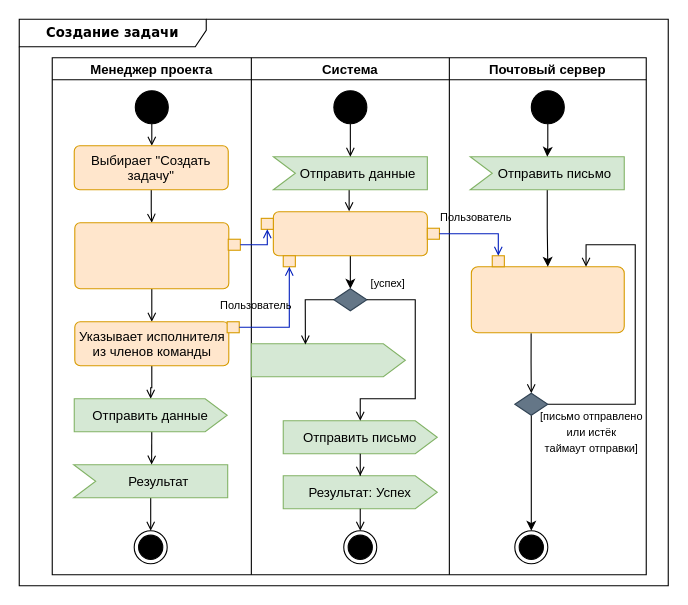
This 688x605 diagram has some shape labels left out. The shapes that lost their labels are listed below. From the top down, each one's box as (x1, y1, x2, y2) in pixels, then its label:
(272, 211, 427, 256): Проводит валидацию полей
(74, 222, 229, 289): Заполняет поля: название, описание, выделенное время
(470, 266, 624, 333): Отправляет пользователю письмо с информацией о задаче
(250, 343, 405, 377): Результат: Неверные данные
